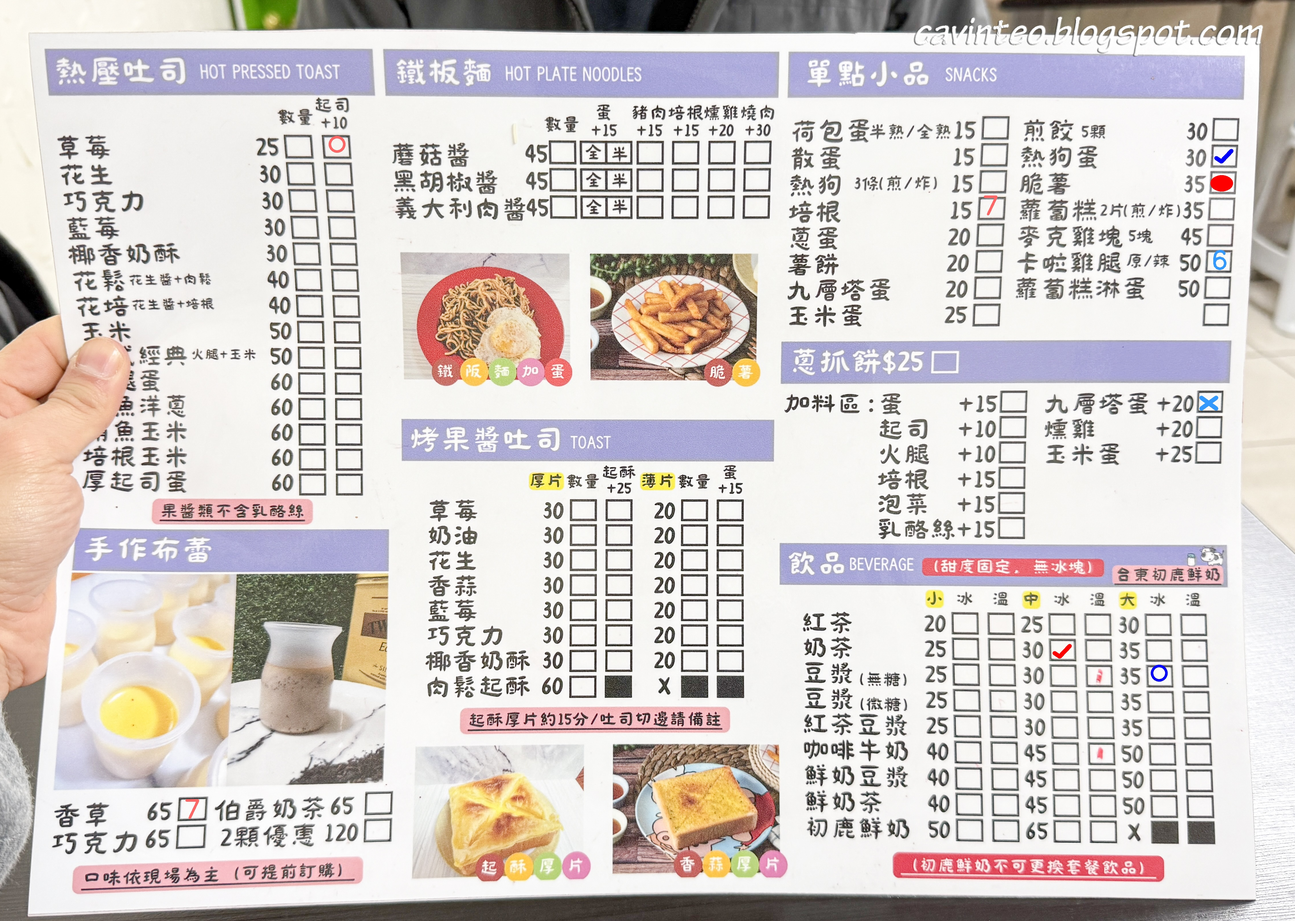marked_item: (1212, 147, 1237, 165), (1209, 174, 1234, 192), (1196, 394, 1221, 412), (979, 196, 1004, 214), (1050, 642, 1075, 660), (1208, 251, 1233, 269), (1147, 664, 1172, 682), (325, 135, 350, 153), (181, 800, 206, 818)
